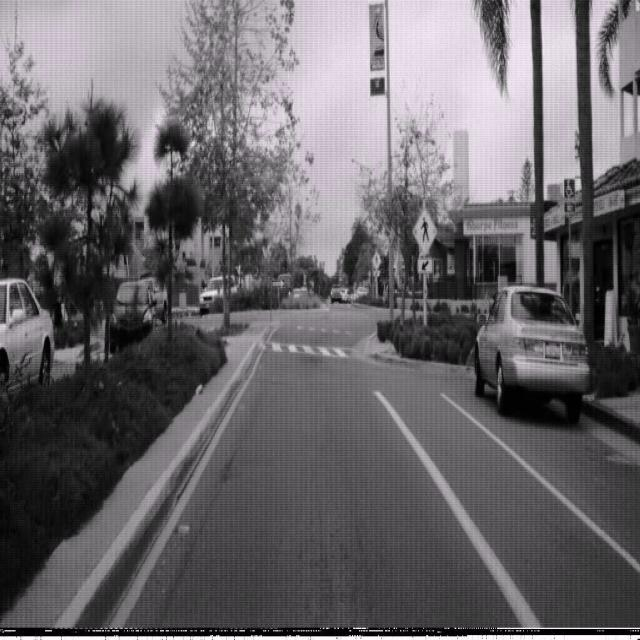pedestrianCrossing: (412, 205, 438, 256)
